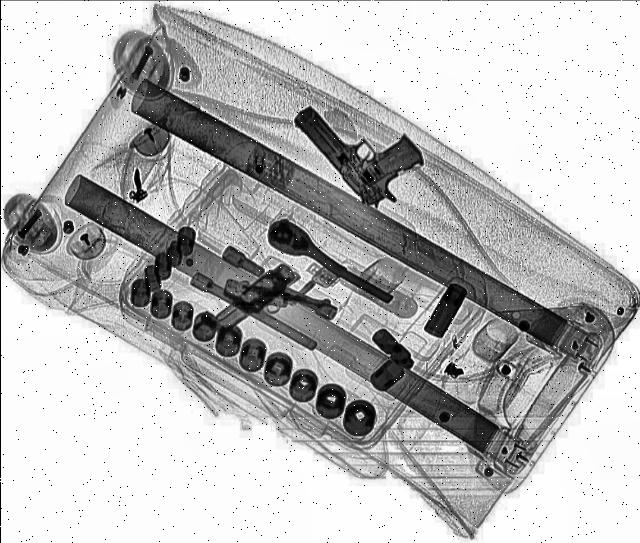Gun: (291, 80, 443, 211), (210, 275, 338, 349)
